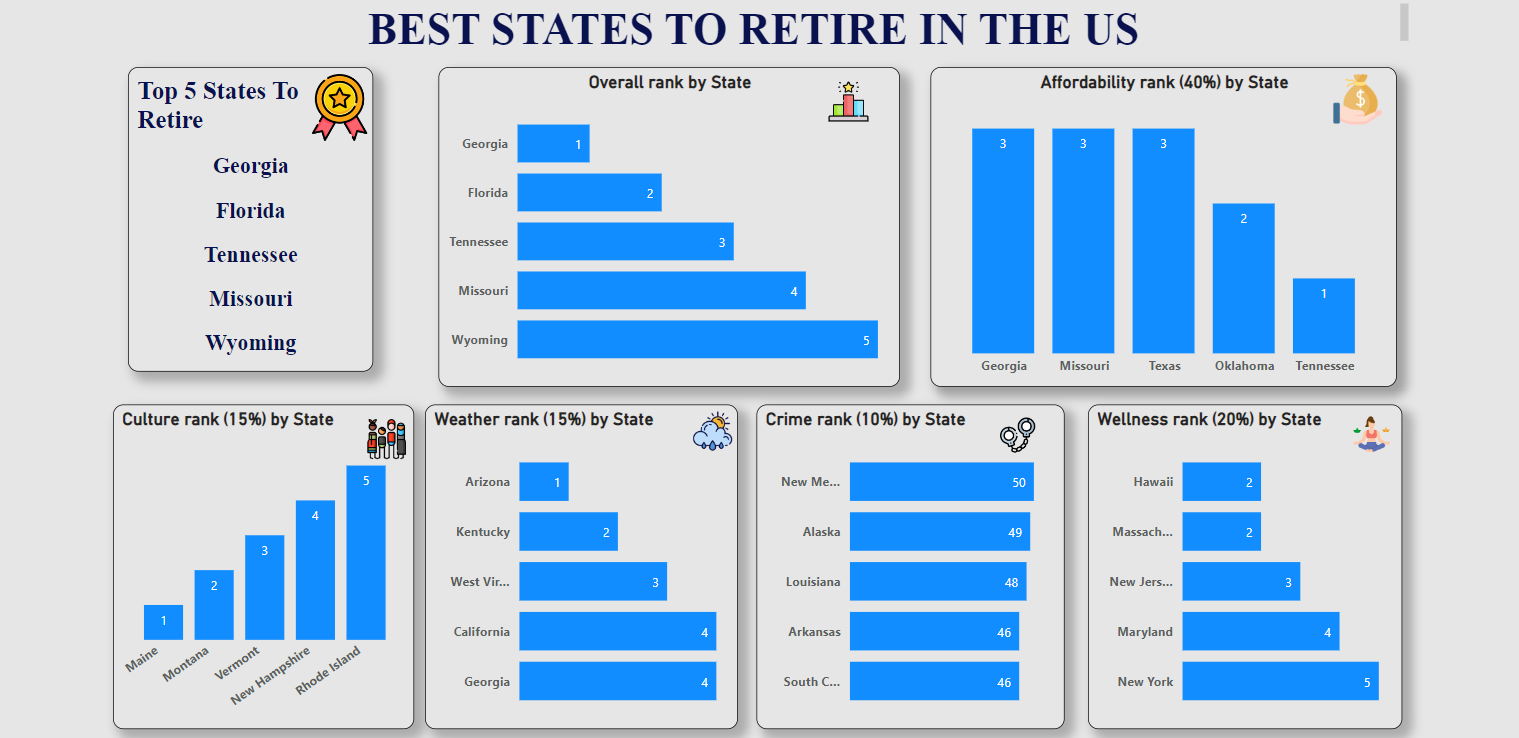

This screenshot's page, from the dashboard's own definition file:
{"tool":"powerbi","page":{"name":"Best State To Retire","canvas":[1280,720],"ordinal":0},"visuals":[{"type":"clusteredBarChart","fields":{"Category":["Best States to Retire.State"],"Y":["Sum(Best States to Retire.Overall rank)"]},"box":[325.8,66.8,445,308.3],"z":0},{"type":"clusteredColumnChart","fields":{"Category":["Best States to Retire.State"],"Y":["Sum(Best States to Retire.Culture rank (15%))"]},"box":[11.1,392.6,290.9,313.1],"z":1000},{"type":"clusteredColumnChart","fields":{"Category":["Best States to Retire.State"],"Y":["Sum(Best States to Retire.Affordability rank (40%))"]},"box":[801.1,66.8,449.8,308.3],"z":2000},{"type":"clusteredBarChart","fields":{"Category":["Best States to Retire.State"],"Y":["Sum(Best States to Retire.Crime rank (10%))"]},"box":[632.6,392.6,297.2,313.1],"z":3000},{"type":"clusteredBarChart","fields":{"Category":["Best States to Retire.State"],"Y":["Sum(Best States to Retire.Weather rank (15%))"]},"box":[313.1,392.6,302,313.1],"z":4000},{"type":"clusteredBarChart","fields":{"Category":["Best States to Retire.State"],"Y":["Sum(Best States to Retire.Wellness rank (20%))"]},"box":[952.1,392.6,303.6,313.1],"z":5000},{"type":"textbox","box":[0,0,1266.8,52.5],"z":6000},{"type":"textbox","box":[25.4,66.8,236.8,294],"z":7000},{"type":"image","box":[251.1,400.5,50.9,49.3],"z":8000},{"type":"image","box":[564.2,392.6,50.9,50.9],"z":9000},{"type":"image","box":[839.2,398.9,90.6,44.5],"z":10000},{"type":"image","box":[1180.9,68.3,63.6,58.8],"z":11000},{"type":"image","box":[685,74.7,73.1,49.3],"z":12000},{"type":"image","box":[1201.6,397.4,49.3,49.3],"z":13000},{"type":"image","box":[186,68.3,90.6,74.7],"z":13002}]}

Visuals, with their boxes on the page's 1280x720 design canvas (x1, y1, x2, y2). These are canvas units, not pixel positions in the 1519x738 screenshot, which may show the page scaled, cropped or inside an application window:
clusteredBarChart - Best States to Retire.State x Sum(Best States to Retire.Overall rank): region(326, 67, 771, 375)
clusteredColumnChart - Best States to Retire.State x Sum(Best States to Retire.Culture rank (15%)): region(11, 393, 302, 706)
clusteredColumnChart - Best States to Retire.State x Sum(Best States to Retire.Affordability rank (40%)): region(801, 67, 1251, 375)
clusteredBarChart - Best States to Retire.State x Sum(Best States to Retire.Crime rank (10%)): region(633, 393, 930, 706)
clusteredBarChart - Best States to Retire.State x Sum(Best States to Retire.Weather rank (15%)): region(313, 393, 615, 706)
clusteredBarChart - Best States to Retire.State x Sum(Best States to Retire.Wellness rank (20%)): region(952, 393, 1256, 706)
textbox: region(0, 0, 1267, 52)
textbox: region(25, 67, 262, 361)
image: region(251, 400, 302, 450)
image: region(564, 393, 615, 444)
image: region(839, 399, 930, 443)
image: region(1181, 68, 1244, 127)
image: region(685, 75, 758, 124)
image: region(1202, 397, 1251, 447)
image: region(186, 68, 277, 143)
